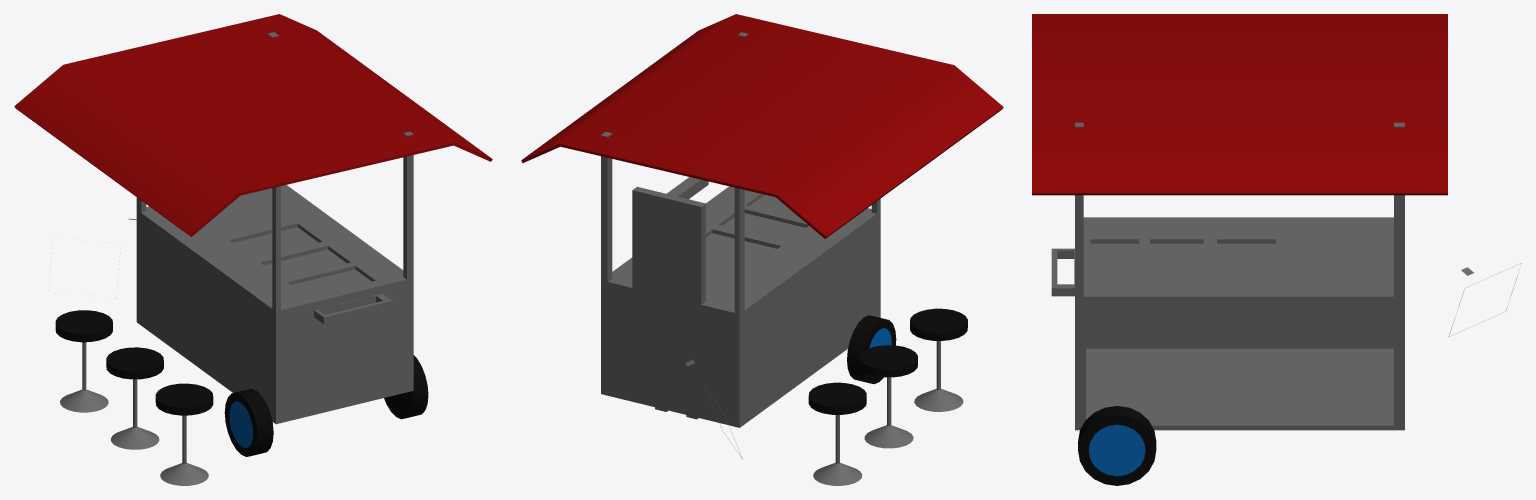
The model's file is TacosChiquito.fbx.
3 views of the same model, side by side, from view 1: azimuth 30°, elevation 25°; view 2: azimuth 150°, elevation 25°; view 3: azimuth 270°, elevation 25° (orthographic). The views are drawn at different scales.
Visible parts, largest first — view 1: Puesto_de_Tacos_lambert5_0, Puesto_de_Tacos_lambert91_0, Puesto_de_Tacos_lambert11_0, Puesto_de_Tacos_lambert6_0, Puesto_de_Tacos_phong2_0; view 2: Puesto_de_Tacos_lambert91_0, Puesto_de_Tacos_lambert5_0, Puesto_de_Tacos_lambert11_0, Puesto_de_Tacos_lambert6_0; view 3: Puesto_de_Tacos_lambert5_0, Puesto_de_Tacos_lambert91_0, Puesto_de_Tacos_lambert6_0, Puesto_de_Tacos_phong2_0.
Boxes of the visible parts, x1,y1,x2,y2 form: Puesto_de_Tacos_lambert5_0: (14, 14, 492, 236); Puesto_de_Tacos_lambert91_0: (48, 32, 413, 485); Puesto_de_Tacos_lambert11_0: (55, 310, 213, 415); Puesto_de_Tacos_lambert6_0: (224, 355, 428, 456); Puesto_de_Tacos_phong2_0: (229, 401, 253, 447); Puesto_de_Tacos_lambert91_0: (601, 32, 963, 485); Puesto_de_Tacos_lambert5_0: (521, 14, 1003, 238); Puesto_de_Tacos_lambert11_0: (808, 308, 967, 414); Puesto_de_Tacos_lambert6_0: (847, 315, 896, 384); Puesto_de_Tacos_lambert5_0: (1032, 14, 1447, 195); Puesto_de_Tacos_lambert91_0: (1051, 122, 1521, 430); Puesto_de_Tacos_lambert6_0: (1078, 406, 1156, 485); Puesto_de_Tacos_phong2_0: (1088, 424, 1145, 476).
Bounding box in the file's own units: 259 × 247 × 306.
